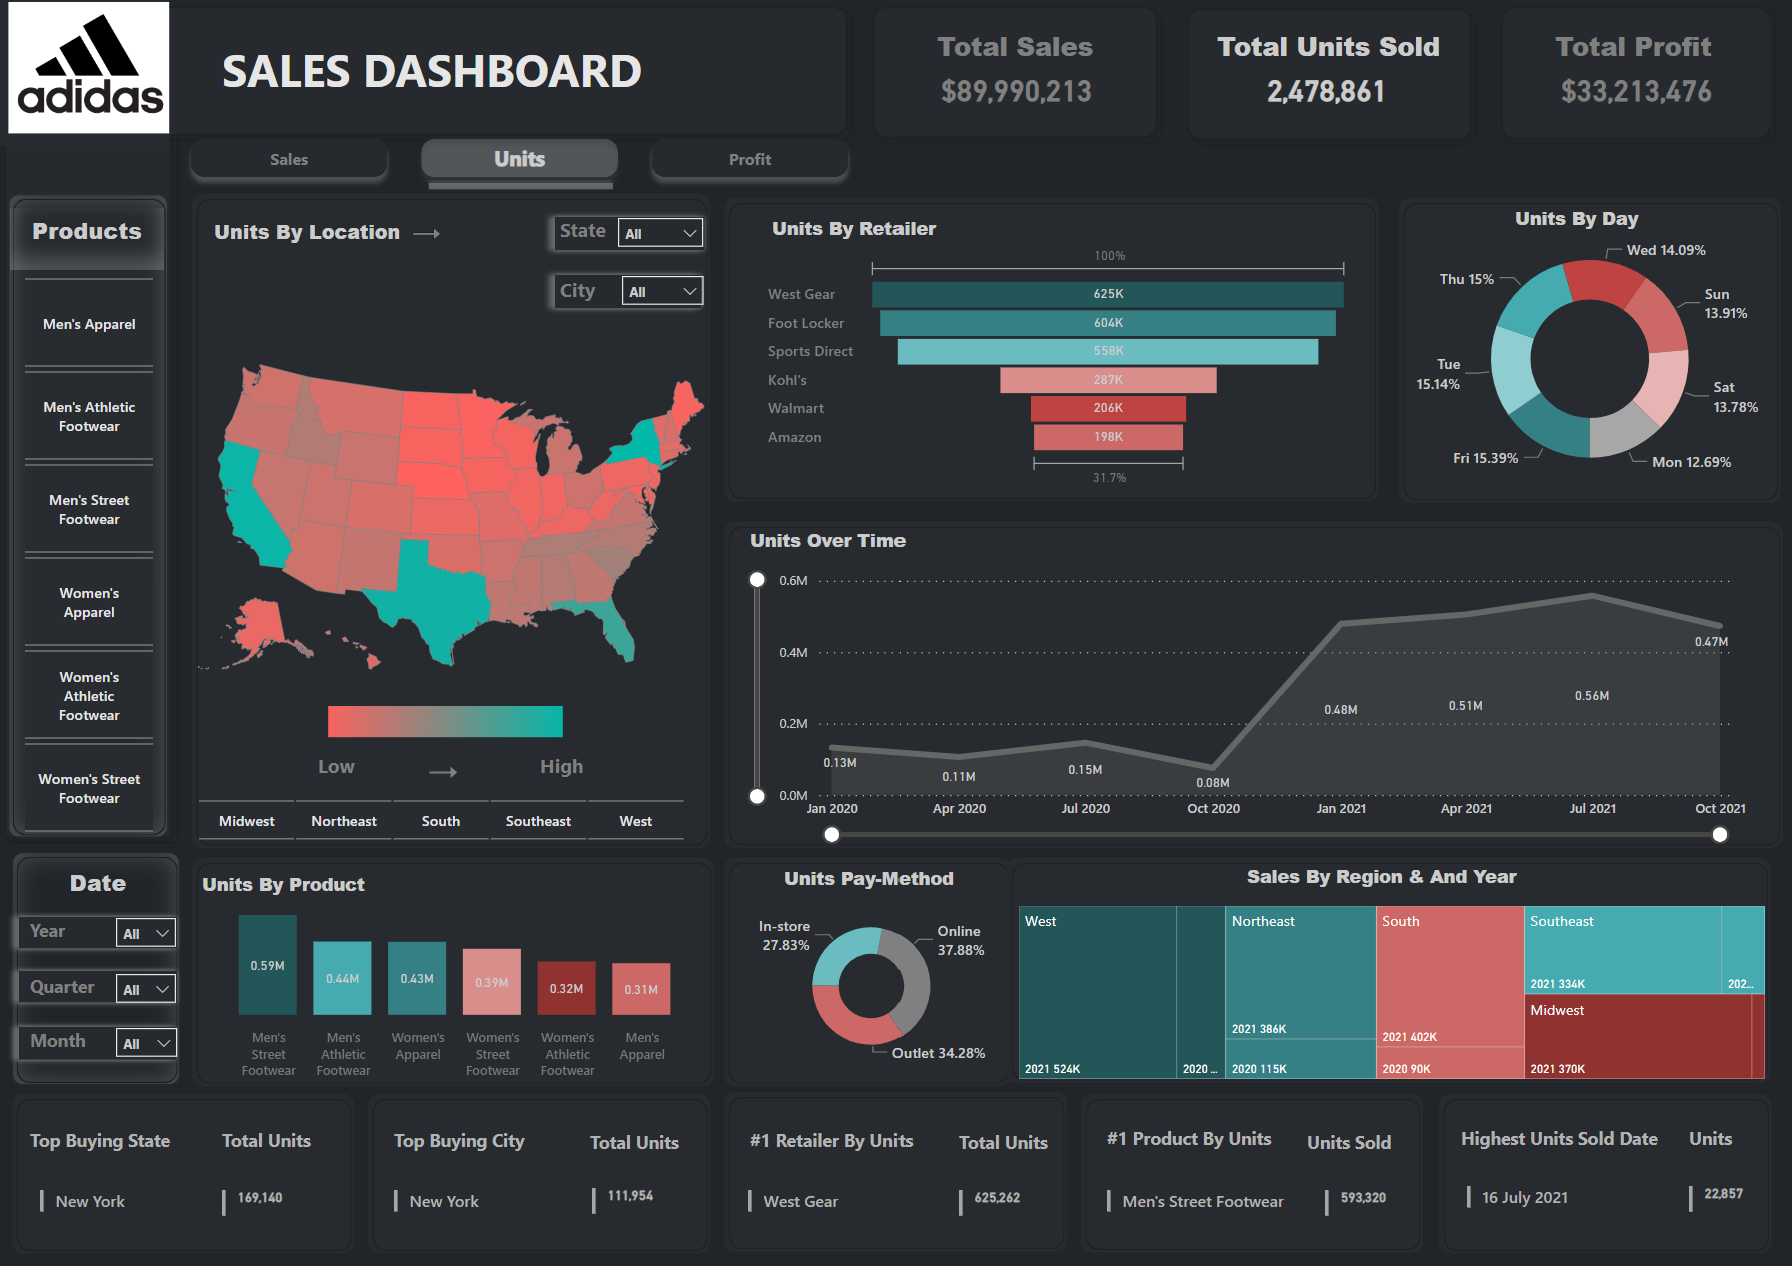

This screenshot's page, from the dashboard's own definition file:
{"tool":"powerbi","page":{"name":"Units","canvas":[1500,1060],"ordinal":1},"visuals":[{"type":"shape","box":[0,0,157,710],"z":0},{"type":"shape","box":[11.7,165,133.3,536.7],"z":1000},{"type":"shape","box":[608.3,718.3,238.3,190],"z":2000},{"type":"shape","box":[905.7,915.5,285,132],"z":3000},{"type":"shape","box":[1202.9,915.7,277.1,132.9],"z":4000},{"type":"shape","box":[608.6,913.6,285,132.9],"z":5000},{"type":"shape","box":[311.4,915,285,132.9],"z":6000},{"type":"shape","box":[14.3,915,285,132.9],"z":7000},{"type":"shape","box":[14.4,713.3,140,194.4],"z":8000},{"type":"shape","box":[165,165,431.7,545],"z":9000},{"type":"shapeMap","fields":{"Category":["Data_1.State"],"Value":["Data_1.Quantity"]},"box":[141.7,196.7,478.3,475],"z":10000},{"type":"shape","box":[0,0,719.8,125],"z":11000},{"type":"shape","box":[608.6,168.6,544.3,252.9],"z":12000},{"type":"shape","box":[608.6,438.6,881.4,271.4],"z":13000},{"type":"stackedAreaChart","fields":{"Category":["Data_1.Invoice Date.Variation.Date Hierarchy.Year","Data_1.Invoice Date.Variation.Date Hierarchy.Quarter"],"Y":["Data_1.Quantity"]},"box":[625,473.3,838.3,236.7],"z":14000},{"type":"multiRowCard","fields":{"Values":["Sum(Data_1.Units Sold)"]},"box":[1102.9,990,78.6,34.3],"z":15000},{"type":"multiRowCard","fields":{"Values":["Data_1.Product"]},"box":[921.4,990,170,45.7],"z":16000},{"type":"textbox","box":[921.7,936.7,166.7,38.3],"z":17000},{"type":"textbox","box":[1088.6,940,130,35.7],"z":18000},{"type":"textbox","box":[624.3,938.6,164.3,34.3],"z":19000},{"type":"textbox","box":[798.6,940,118.6,34.3],"z":20000},{"type":"multiRowCard","fields":{"Values":["Data_1.Retailer"]},"box":[623.6,990.7,165.5,36.4],"z":21000},{"type":"multiRowCard","fields":{"Values":["Data_1.Quantity"]},"box":[798.6,990,100,34.3],"z":22000},{"type":"textbox","box":[624.3,438.6,274.3,34.3],"z":23000},{"type":"multiRowCard","fields":{"Values":["Data_1.Quantity"]},"box":[185.7,990,100,34.3],"z":24000},{"type":"multiRowCard","fields":{"Values":["Data_1.State"]},"box":[32.9,990,188.6,32.9],"z":25000},{"type":"textbox","box":[25.7,938.6,188.6,37.1],"z":26000},{"type":"textbox","box":[185.7,938.6,114.3,35.7],"z":27000},{"type":"shape","box":[0,0,145.3,125.3],"z":28000},{"type":"textbox","box":[185.5,30.2,485.9,64.5],"z":29000},{"type":"image","box":[0,0,157.3,119.3],"z":30000},{"type":"textbox","box":[177.6,180.3,193.4,40.8],"z":31000},{"type":"funnel","fields":{"Category":["Data_1.Retailer"],"Y":["Data_1.Quantity"]},"box":[640,204,494,210],"z":32000},{"type":"shape","box":[723.8,0,254,127],"z":33000},{"type":"shape","box":[984.9,2,254,127],"z":34000},{"type":"shape","box":[1246,0,242,128],"z":35000},{"type":"multiRowCard","fields":{"Values":["Data_1.Sales"]},"box":[784,60,149,50],"z":36000},{"type":"textbox","box":[780,22,164,50],"z":37000},{"type":"multiRowCard","fields":{"Values":["Data_1.Profit"]},"box":[1300,60,161.4,50],"z":38000},{"type":"textbox","box":[1295.7,21.4,191.4,50],"z":39000},{"type":"multiRowCard","fields":{"Values":["Data_1.Quantity"]},"box":[1055.7,60,125.7,50],"z":40000},{"type":"textbox","box":[1012.9,21.4,210,50],"z":41000},{"type":"textbox","box":[642.9,178.6,274.3,32.9],"z":42000},{"type":"slicer","fields":{"Values":["Data_1.Region"]},"box":[145,663.3,453.3,46.7],"z":43000},{"type":"slicer","fields":{"Values":["Data_1.Product"]},"box":[0,228.3,156.7,475],"z":44000},{"type":"textbox","box":[328.3,938.9,163.6,34.5],"z":45000},{"type":"textbox","box":[492.1,939.6,102,34],"z":46000},{"type":"multiRowCard","fields":{"Values":["Data_1.City"]},"box":[328.6,990,164.3,37.1],"z":47000},{"type":"multiRowCard","fields":{"Values":["Data_1.Quantity"]},"box":[492.9,988.6,100,34.3],"z":48000},{"type":"shape","box":[1170,168,318,254],"z":49000},{"type":"donutChart","fields":{"Category":["Data_1.Day"],"Y":["Data_1.Quantity"]},"box":[1170,184,318,238],"z":50000},{"type":"textbox","box":[1262,170,136,40],"z":51000},{"type":"shape","box":[458.5,174.8,142.9,45.9],"z":52000},{"type":"textbox","box":[467.3,178.4,155.9,42.4],"z":53000},{"type":"slicer","title":"Select City","fields":{"Values":["Data_1.State"]},"box":[510.3,174.8,91.2,46.5],"z":54000},{"type":"shape","box":[361.7,639.3,26,14],"z":55000},{"type":"image","box":[255.7,587.3,242,36],"z":56000},{"type":"shape","box":[458,224,140,46],"z":57000},{"type":"shape","box":[348.7,192.1,25,13.2],"z":58000},{"type":"textbox","box":[467,228,156,42],"z":59000},{"type":"textbox","box":[449.7,625,60,43.3],"z":60000},{"type":"textbox","box":[264.8,625,51.4,42.9],"z":61000},{"type":"slicer","title":"Select City","fields":{"Values":["Data_1.City"]},"box":[513,224,88,46],"z":62000},{"type":"shape","box":[843.8,718.8,636.2,187.5],"z":63000},{"type":"treemap","fields":{"Group":["Data_1.Region"],"Details":["Data_1.Year"],"Values":["Data_1.Quantity"]},"box":[848.8,753.8,631.2,153.8],"z":64000},{"type":"textbox","box":[1038,718,400,34],"z":65000},{"type":"shape","box":[165,718.3,435,190],"z":66000},{"type":"donutChart","fields":{"Category":["Data_1.Sales Method"],"Y":["Data_1.Quantity"]},"box":[620,755,221.7,140],"z":67000},{"type":"textbox","box":[654,720,172,34],"z":68000},{"type":"shape","box":[11.1,757.8,150,44.4],"z":69000},{"type":"textbox","box":[24.4,762.8,54.4,36.7],"z":70000},{"type":"shape","box":[12.2,850,148.9,45.6],"z":71000},{"type":"textbox","box":[25.6,854.6,72.5,42.5],"z":72000},{"type":"slicer","title":"Select City","fields":{"Values":["Data_1.Month"]},"box":[91.1,850,71.1,45.6],"z":73000},{"type":"shape","box":[11.1,803.9,150,44.4],"z":74000},{"type":"textbox","box":[24.4,809.4,73.3,41.7],"z":75000},{"type":"slicer","title":"Select City","fields":{"Values":["Data_1.Month"]},"box":[91.1,804.4,70,44.4],"z":76000},{"type":"slicer","title":"Select City","fields":{"Values":["Data_1.Year"]},"box":[91.1,757.8,70,44.4],"z":77000},{"type":"textbox","box":[17.8,720,136.7,37.8],"z":78000},{"type":"multiRowCard","fields":{"Values":["Sum(Data_1.Units Sold)"]},"box":[1406,986,80,36],"z":79000},{"type":"multiRowCard","fields":{"Values":["Data_1.Invoice Date"]},"box":[1221.7,986.7,170,46.7],"z":80000},{"type":"textbox","box":[1216,936,182,38],"z":81000},{"type":"textbox","box":[1406,936,58,40],"z":82000},{"type":"clusteredColumnChart","fields":{"Category":["Data_1.Product"],"Y":["Data_1.Quantity"]},"box":[165,735,430,175],"z":83000},{"type":"textbox","box":[168.3,725,173.3,33.3],"z":84000},{"type":"pageNavigator","box":[155,110,566.7,50],"z":85000},{"type":"actionButton","box":[160,115,170,40],"z":86000},{"type":"actionButton","box":[353.3,115,170,40],"z":87000},{"type":"actionButton","box":[353.3,146.7,171.7,23.3],"z":88000},{"type":"textbox","box":[13.3,176.7,128.3,51.7],"z":89000}]}

Visuals, with their boxes in screenshot pixels (x1, y1, x2, y2), scaled from the page's 1500x1060 canvas onto the 1792x1266 screenshot:
shape: bbox=(0, 0, 188, 848)
shape: bbox=(14, 197, 173, 838)
shape: bbox=(727, 858, 1011, 1085)
shape: bbox=(1082, 1093, 1422, 1251)
shape: bbox=(1437, 1094, 1768, 1252)
shape: bbox=(727, 1091, 1068, 1250)
shape: bbox=(372, 1093, 712, 1252)
shape: bbox=(17, 1093, 358, 1252)
shape: bbox=(17, 852, 184, 1084)
shape: bbox=(197, 197, 713, 848)
shapeMap - Data_1.State x Data_1.Quantity: bbox=(169, 235, 741, 802)
shape: bbox=(0, 0, 860, 149)
shape: bbox=(727, 201, 1377, 503)
shape: bbox=(727, 524, 1780, 848)
stackedAreaChart - Data_1.Invoice Date.Variation.Date Hierarchy.Year x Data_1.Invoice Date.Variation.Date Hierarchy.Quarter: bbox=(747, 565, 1748, 848)
multiRowCard - Sum(Data_1.Units Sold): bbox=(1318, 1182, 1411, 1223)
multiRowCard - Data_1.Product: bbox=(1101, 1182, 1304, 1237)
textbox: bbox=(1101, 1119, 1300, 1164)
textbox: bbox=(1301, 1123, 1456, 1165)
textbox: bbox=(746, 1121, 942, 1162)
textbox: bbox=(954, 1123, 1096, 1164)
multiRowCard - Data_1.Retailer: bbox=(745, 1183, 943, 1227)
multiRowCard - Data_1.Quantity: bbox=(954, 1182, 1074, 1223)
textbox: bbox=(746, 524, 1074, 565)
multiRowCard - Data_1.Quantity: bbox=(222, 1182, 341, 1223)
multiRowCard - Data_1.State: bbox=(39, 1182, 265, 1222)
textbox: bbox=(31, 1121, 256, 1165)
textbox: bbox=(222, 1121, 358, 1164)
shape: bbox=(0, 0, 174, 150)
textbox: bbox=(222, 36, 802, 113)
image: bbox=(0, 0, 188, 142)
textbox: bbox=(212, 215, 443, 264)
funnel - Data_1.Retailer x Data_1.Quantity: bbox=(765, 244, 1355, 494)
shape: bbox=(865, 0, 1168, 152)
shape: bbox=(1177, 2, 1480, 154)
shape: bbox=(1489, 0, 1778, 153)
multiRowCard - Data_1.Sales: bbox=(937, 72, 1115, 131)
textbox: bbox=(932, 26, 1128, 86)
multiRowCard - Data_1.Profit: bbox=(1553, 72, 1746, 131)
textbox: bbox=(1548, 26, 1777, 85)
multiRowCard - Data_1.Quantity: bbox=(1261, 72, 1411, 131)
textbox: bbox=(1210, 26, 1461, 85)
textbox: bbox=(768, 213, 1096, 253)
slicer - Data_1.Region: bbox=(173, 792, 715, 848)
slicer - Data_1.Product: bbox=(0, 273, 187, 840)
textbox: bbox=(392, 1121, 588, 1163)
textbox: bbox=(588, 1122, 710, 1163)
multiRowCard - Data_1.City: bbox=(393, 1182, 589, 1227)
multiRowCard - Data_1.Quantity: bbox=(589, 1181, 708, 1222)
shape: bbox=(1398, 201, 1778, 504)
donutChart - Data_1.Day x Data_1.Quantity: bbox=(1398, 220, 1778, 504)
textbox: bbox=(1508, 203, 1670, 251)
shape: bbox=(548, 209, 718, 264)
textbox: bbox=(558, 213, 745, 264)
"Select City" slicer: bbox=(610, 209, 719, 264)
shape: bbox=(432, 764, 463, 780)
image: bbox=(305, 701, 595, 744)
shape: bbox=(547, 268, 714, 322)
shape: bbox=(417, 229, 446, 245)
textbox: bbox=(558, 272, 744, 322)
textbox: bbox=(537, 746, 609, 798)
textbox: bbox=(316, 746, 378, 798)
"Select City" slicer: bbox=(613, 268, 718, 322)
shape: bbox=(1008, 858, 1768, 1082)
treemap - Data_1.Region x Data_1.Year: bbox=(1014, 900, 1768, 1084)
textbox: bbox=(1240, 858, 1718, 898)
shape: bbox=(197, 858, 717, 1085)
donutChart - Data_1.Sales Method x Data_1.Quantity: bbox=(741, 902, 1006, 1069)
textbox: bbox=(781, 860, 987, 901)
shape: bbox=(13, 905, 192, 958)
textbox: bbox=(29, 911, 94, 955)
shape: bbox=(15, 1015, 192, 1070)
textbox: bbox=(31, 1021, 117, 1071)
"Select City" slicer: bbox=(109, 1015, 194, 1070)
shape: bbox=(13, 960, 192, 1013)
textbox: bbox=(29, 967, 117, 1017)
"Select City" slicer: bbox=(109, 961, 192, 1014)
"Select City" slicer: bbox=(109, 905, 192, 958)
textbox: bbox=(21, 860, 185, 905)
multiRowCard - Sum(Data_1.Units Sold): bbox=(1680, 1178, 1775, 1221)
multiRowCard - Data_1.Invoice Date: bbox=(1460, 1178, 1663, 1234)
textbox: bbox=(1453, 1118, 1670, 1163)
textbox: bbox=(1680, 1118, 1749, 1166)
clusteredColumnChart - Data_1.Product x Data_1.Quantity: bbox=(197, 878, 711, 1087)
textbox: bbox=(201, 866, 408, 906)
pageNavigator: bbox=(185, 131, 862, 191)
actionButton: bbox=(191, 137, 394, 185)
actionButton: bbox=(422, 137, 625, 185)
actionButton: bbox=(422, 175, 627, 203)
textbox: bbox=(16, 211, 169, 273)
